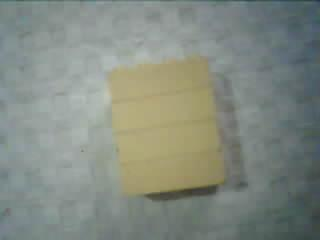lego: (101, 56, 229, 201)
